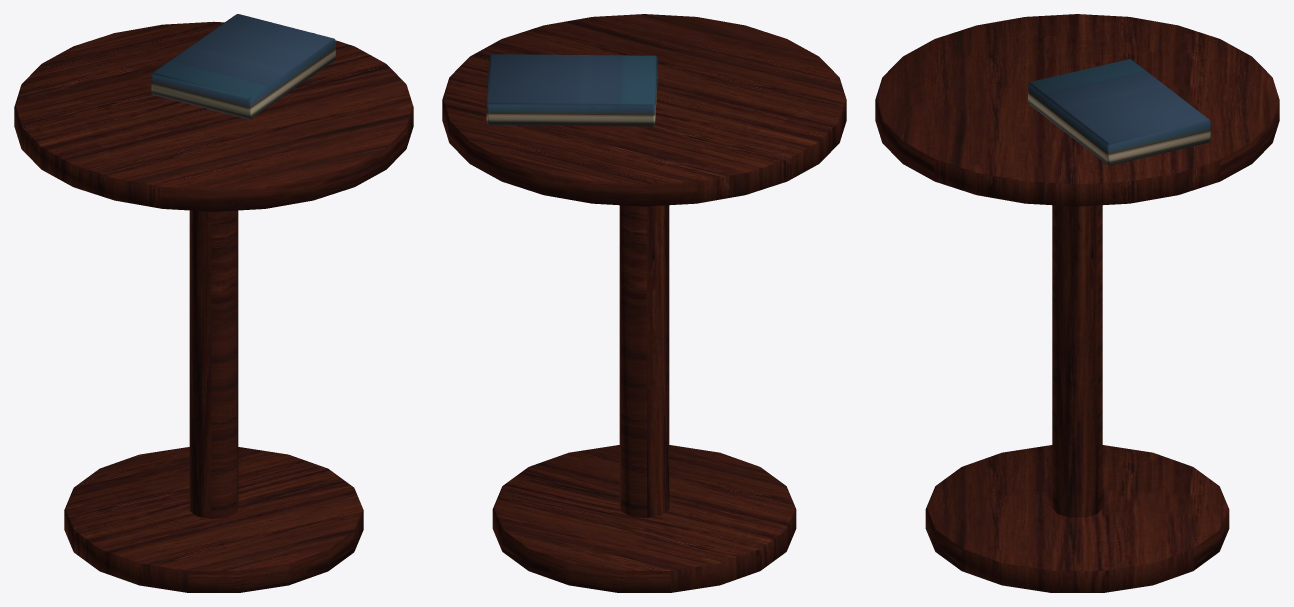
Rendered from side_table.glb.
3 views of the same model, side by side, from view 1: azimuth 30°, elevation 25°; view 2: azimuth 150°, elevation 25°; view 3: azimuth 270°, elevation 25° (orthographic).
Parts seen in each view (by area): view 1: Mantel wood, Book; view 2: Mantel wood, Book; view 3: Mantel wood, Book.
Part boxes in pixels (x1,y1,x2,y2): Mantel wood: (14,21,413,592); Book: (151,14,335,119); Mantel wood: (442,14,846,592); Book: (486,54,657,126); Mantel wood: (875,14,1279,592); Book: (1028,59,1210,165).
Size of the model in its own units: 0.48 by 0.595 by 0.48.
2 materials, 2 textured.
